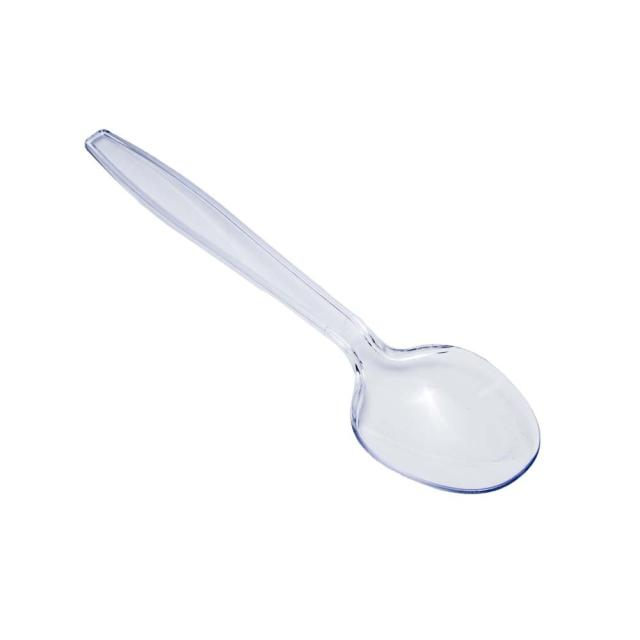spoon: (73, 108, 562, 502)
